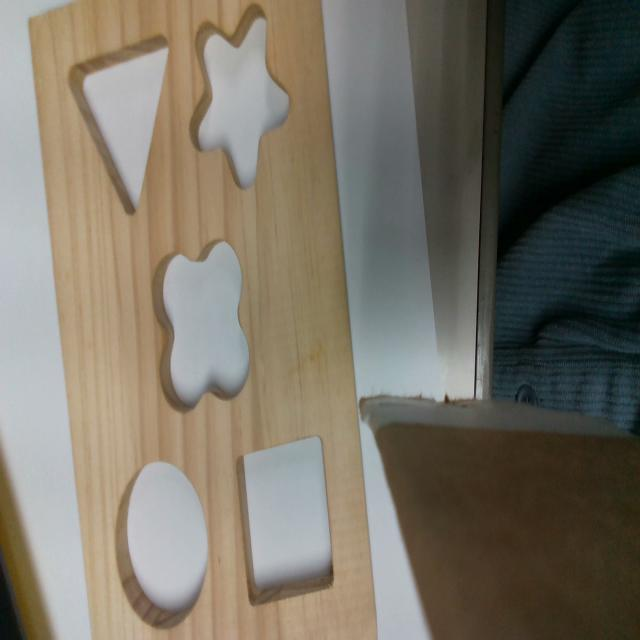circle: (116, 462, 208, 627)
flower: (152, 237, 251, 411)
square: (236, 433, 335, 607)
star: (191, 6, 290, 187)
triangle: (68, 31, 173, 216)
